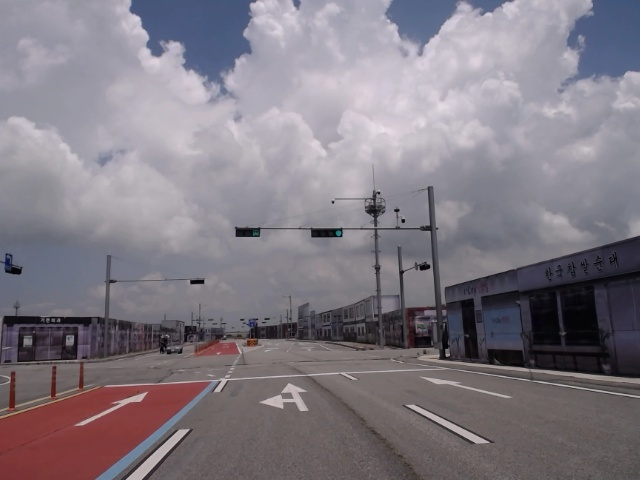straight_green_4: (310, 227, 342, 238)
